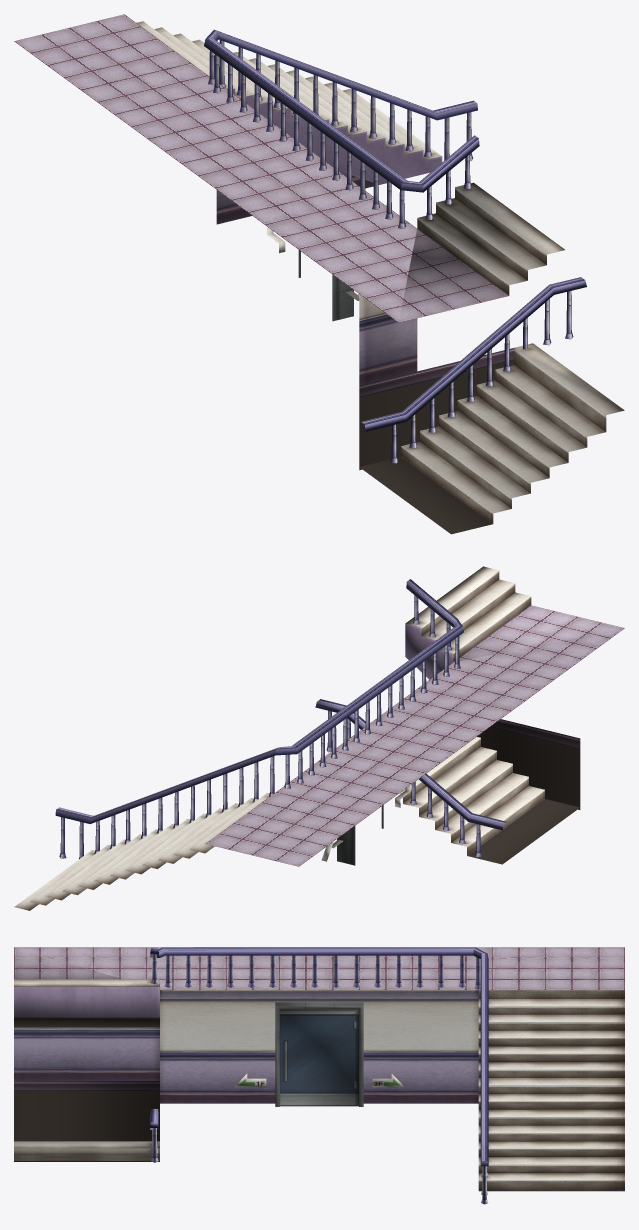
Rendered from a_SCfloor01_02.glb.
The picture shows the model from 3 angles, top to bottom: view 1: azimuth 30°, elevation 25°; view 2: azimuth 150°, elevation 25°; view 3: azimuth 270°, elevation 25°; orthographic projection. The views are drawn at different scales.
Parts seen in each view (by area): view 1: a_SCfloor01_02; view 2: a_SCfloor01_02; view 3: a_SCfloor01_02.
Part boxes in pixels (left/top/right/bottom): a_SCfloor01_02: left=14, top=14, right=624, bottom=534; a_SCfloor01_02: left=14, top=566, right=624, bottom=910; a_SCfloor01_02: left=14, top=947, right=624, bottom=1204.
Size of the model in its own units: 6.44 by 5.09 by 11.5.
5 materials, 5 textured.
